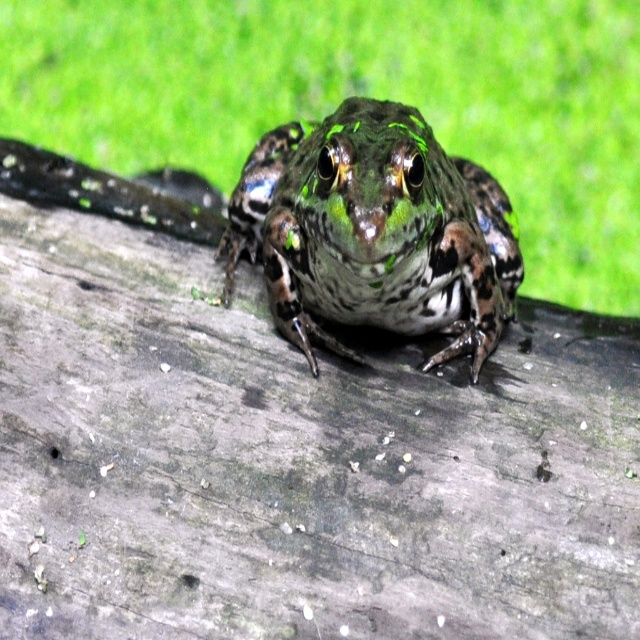Frog: (212, 95, 526, 376)
